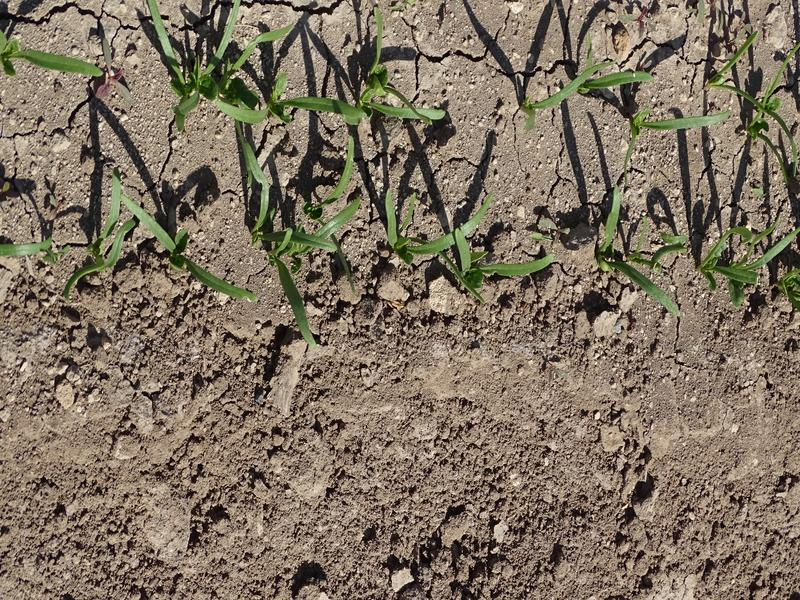Espinaca: (138, 2, 447, 124), (2, 178, 257, 311), (519, 59, 794, 135), (261, 185, 373, 345), (384, 195, 558, 289), (600, 184, 694, 316), (700, 226, 800, 296), (1, 41, 104, 80)
